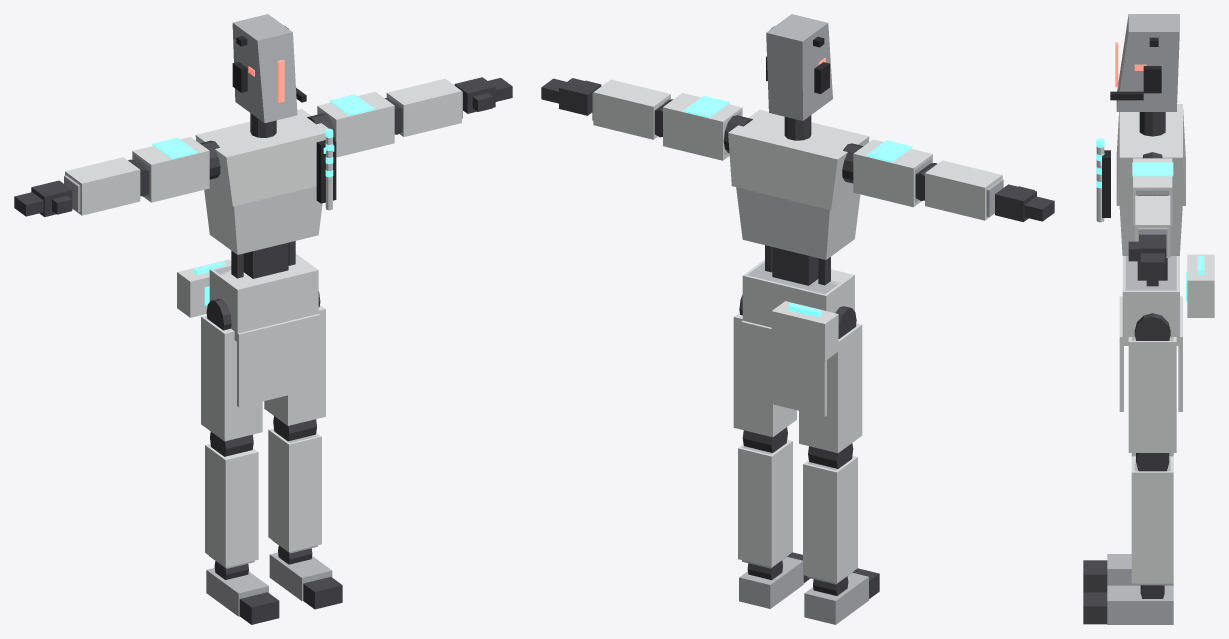
Rendered from char_F2_medical_officer.glb.
3 views of the same model, side by side, from view 1: azimuth 30°, elevation 25°; view 2: azimuth 150°, elevation 25°; view 3: azimuth 270°, elevation 25° (orthographic). The views are drawn at different scales.
Visible parts, largest first — view 1: Hips_mesh, UpperChest_mesh, LeftLowerLeg_mesh, RightLowerLeg_mesh, Head_mesh, Chest_mesh, RightUpperLeg_mesh, RightUpperArm_mesh, RightLowerArm_mesh, LeftUpperArm_mesh, LeftLowerArm_mesh, LeftUpperLeg_mesh (+8 smaller); view 2: Hips_mesh, UpperChest_mesh, LeftLowerLeg_mesh, RightLowerLeg_mesh, Head_mesh, Chest_mesh, RightUpperLeg_mesh, RightUpperArm_mesh, RightLowerArm_mesh, LeftUpperArm_mesh, LeftLowerArm_mesh, Slot_ReviveKitSlot (+6 smaller); view 3: LeftUpperLeg_mesh, Head_mesh, LeftLowerLeg_mesh, UpperChest_mesh, Hips_mesh, LeftFoot_mesh, Slot_ReviveKitSlot, LeftUpperArm_mesh, LeftLowerArm_mesh, LeftHand_mesh, Chest_mesh, RightFoot_mesh (+5 smaller).
Boxes of the visible parts, <box> form: Hips_mesh: <box>209,253,319,407</box>; UpperChest_mesh: <box>195,109,336,206</box>; LeftLowerLeg_mesh: <box>268,416,321,553</box>; RightLowerLeg_mesh: <box>205,431,258,568</box>; Head_mesh: <box>232,14,306,123</box>; Chest_mesh: <box>204,186,322,254</box>; RightUpperLeg_mesh: <box>201,298,262,441</box>; RightUpperArm_mesh: <box>132,137,209,202</box>; RightLowerArm_mesh: <box>64,157,149,215</box>; LeftUpperArm_mesh: <box>317,91,394,157</box>; LeftLowerArm_mesh: <box>385,78,462,136</box>; LeftUpperLeg_mesh: <box>264,291,325,425</box>; Hips_mesh: <box>741,259,854,416</box>; UpperChest_mesh: <box>728,109,869,210</box>; LeftLowerLeg_mesh: <box>738,427,792,568</box>; RightLowerLeg_mesh: <box>803,443,857,584</box>; Head_mesh: <box>766,14,832,120</box>; Chest_mesh: <box>736,187,860,259</box>; RightUpperLeg_mesh: <box>799,306,862,452</box>; RightUpperArm_mesh: <box>853,139,932,207</box>; RightLowerArm_mesh: <box>915,160,1003,220</box>; LeftUpperArm_mesh: <box>663,93,742,160</box>; LeftLowerArm_mesh: <box>592,79,672,139</box>; Slot_ReviveKitSlot: <box>771,301,838,361</box>; LeftUpperLeg_mesh: <box>1128,313,1176,452</box>; Head_mesh: <box>1110,14,1179,111</box>; LeftLowerLeg_mesh: <box>1131,453,1173,585</box>; UpperChest_mesh: <box>1100,104,1185,217</box>; Hips_mesh: <box>1119,256,1182,411</box>; LeftFoot_mesh: <box>1107,585,1173,624</box>; Slot_ReviveKitSlot: <box>1186,254,1214,317</box>; LeftUpperArm_mesh: <box>1132,158,1173,226</box>; LeftLowerArm_mesh: <box>1135,195,1170,257</box>; LeftHand_mesh: <box>1128,234,1166,274</box>; Chest_mesh: <box>1119,206,1182,255</box>; RightFoot_mesh: <box>1107,554,1173,585</box>.
Size of the model in its own units: 1.69 by 1.86 by 0.3832.
